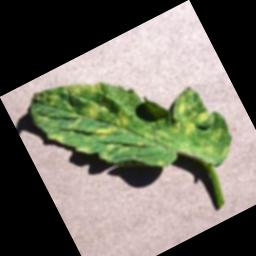Leaf_Mold: (22, 21, 242, 232)
